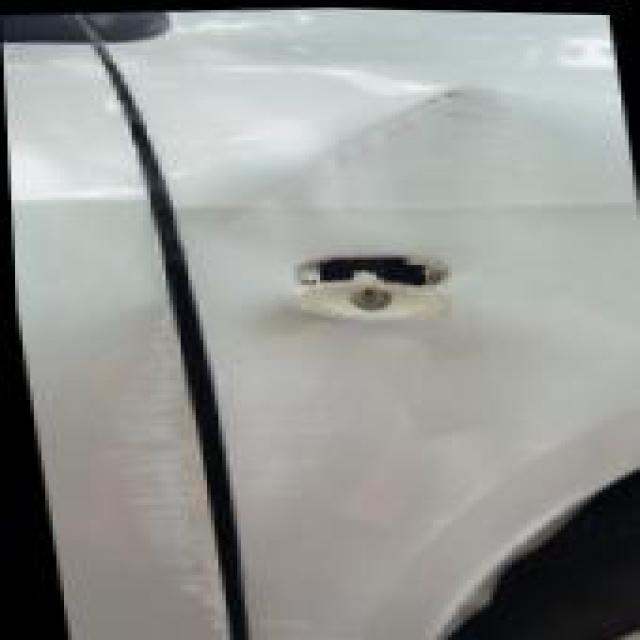Door: (64, 288, 230, 639)
Fender: (162, 50, 596, 351)
